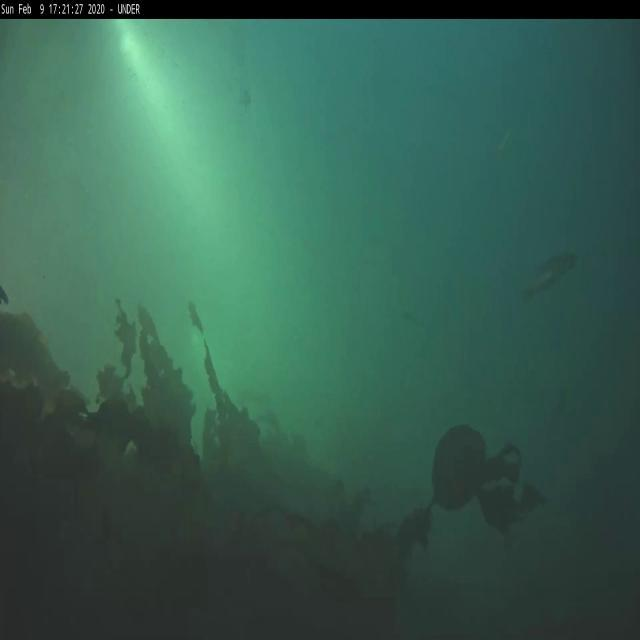fish: (527, 250, 580, 298)
